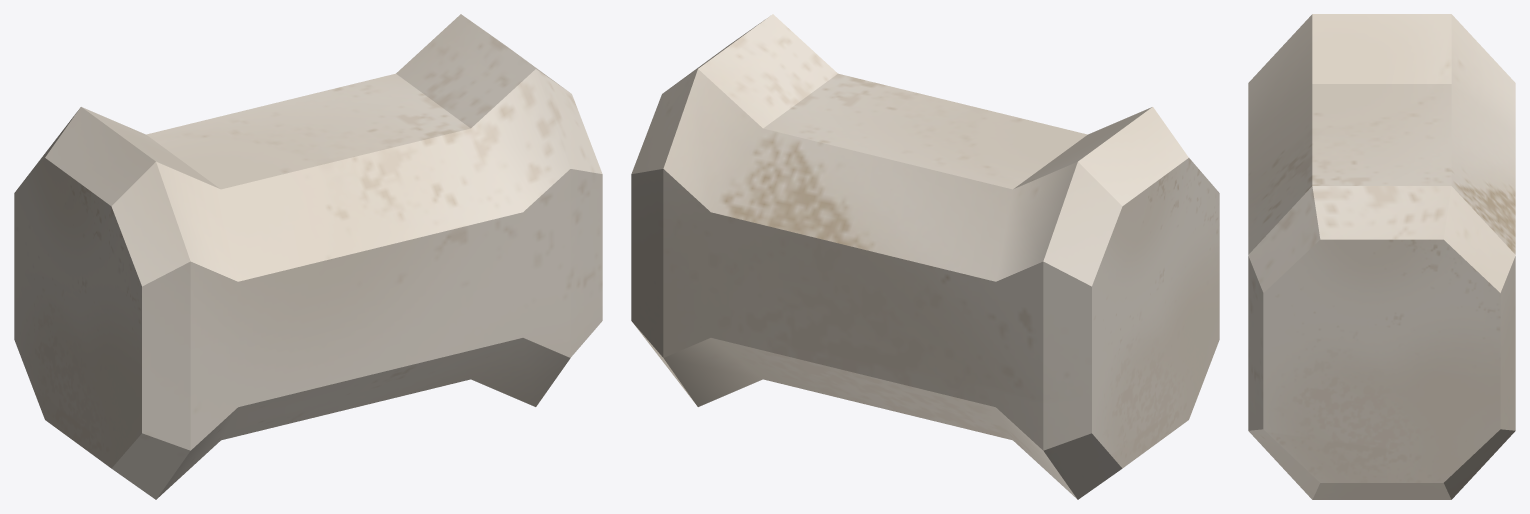
File: SM_spine.fbx
3 renders of one model, left to right at view 1: azimuth 30°, elevation 25°; view 2: azimuth 150°, elevation 25°; view 3: azimuth 270°, elevation 25°, orthographic. The views are drawn at different scales.
Visible parts, largest first — view 1: spine; view 2: spine; view 3: spine.
Part boxes in pixels (x1,y1,x2,y2): spine: [14, 14, 602, 499]; spine: [631, 14, 1219, 499]; spine: [1248, 14, 1515, 499].
Bounding box in the file's own units: 11.15 × 7.83 × 6.05.
